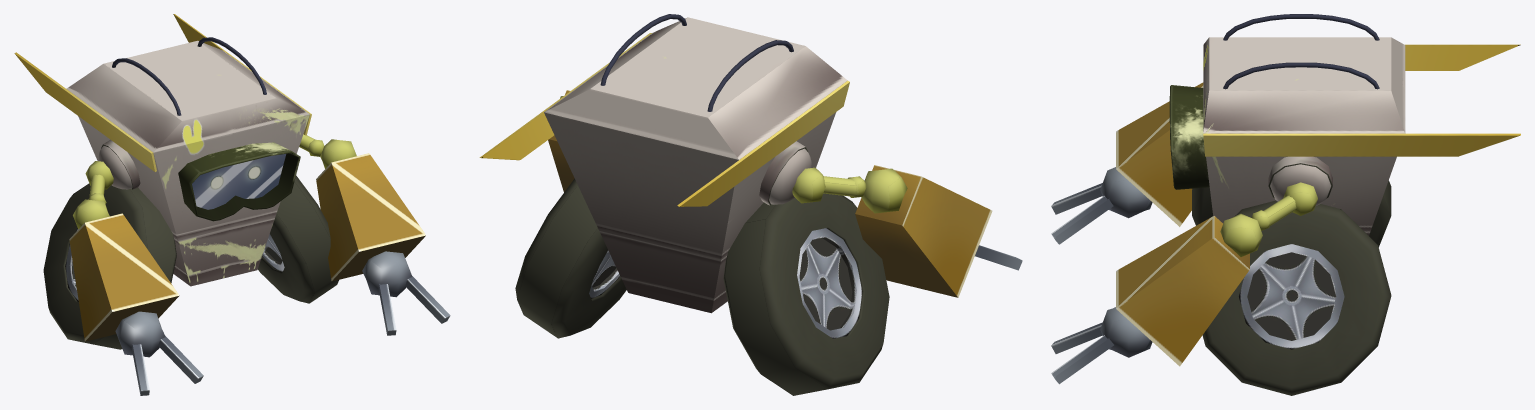
File: zon.fbx
3 renders of one model, left to right at view 1: azimuth 30°, elevation 25°; view 2: azimuth 150°, elevation 25°; view 3: azimuth 270°, elevation 25°, orthographic. The views are drawn at different scales.
Parts seen in each view (by area): view 1: polySurface6, polySurface5, polySurface4; view 2: polySurface6, polySurface5, polySurface4; view 3: polySurface6, polySurface4, polySurface5.
Boxes of the visible parts, x1,y1,x2,y2 form: polySurface6: (14,14,450,395); polySurface5: (43,183,176,349); polySurface4: (258,175,338,303); polySurface6: (479,14,1022,313); polySurface5: (723,193,889,395); polySurface4: (515,178,626,338); polySurface6: (1051,14,1520,384); polySurface4: (1202,200,1391,395); polySurface5: (1192,180,1391,247).
Bounding box in the file's own units: 15.88 × 12.51 × 17.76.
